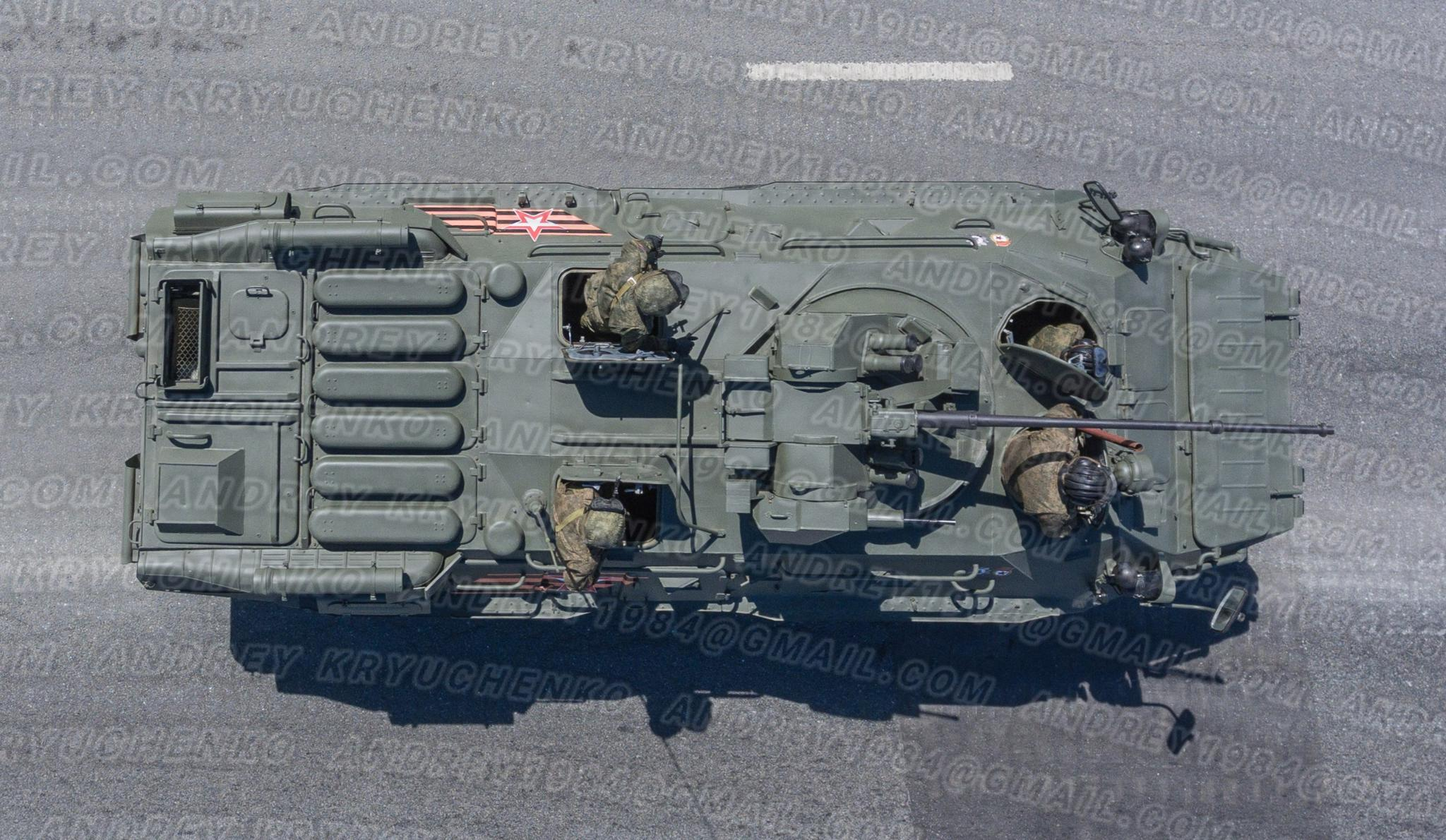armored_car: (109, 172, 1312, 702)
